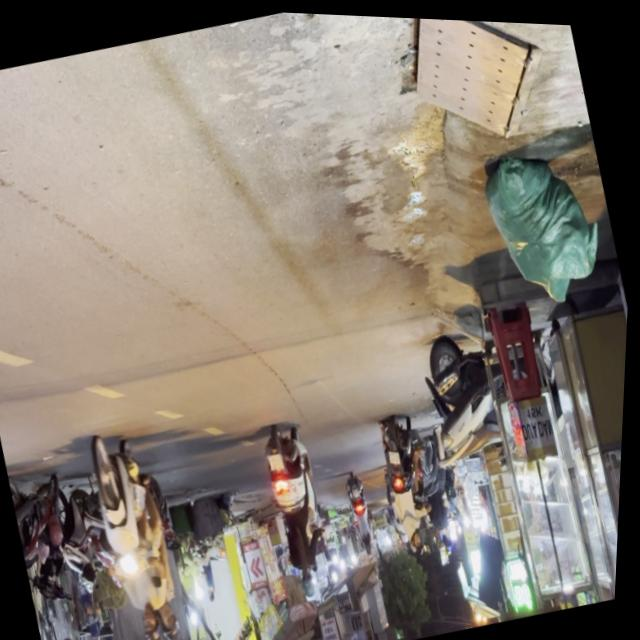helmet: (160, 598, 190, 640), (142, 605, 170, 640), (300, 565, 325, 601)
licenseplate: (78, 422, 200, 640), (254, 416, 348, 605)
nohelmet: (271, 451, 289, 471)
